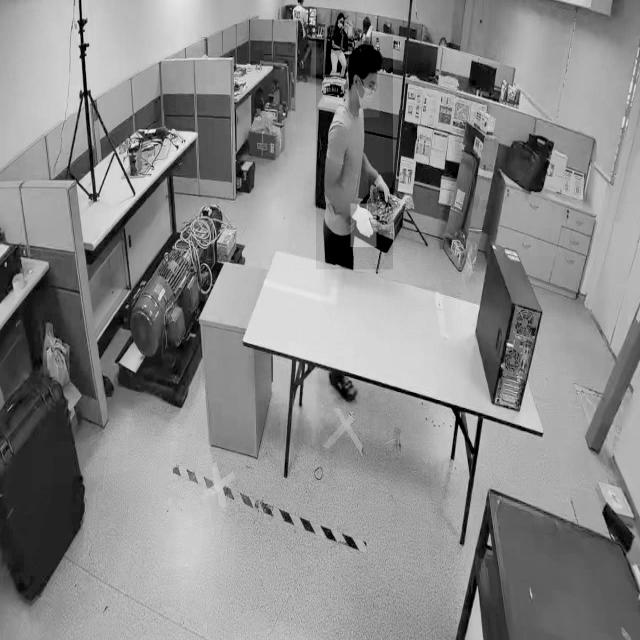face_mask: (352, 70, 379, 118), (336, 12, 346, 34)
hand_glove: (350, 204, 376, 248), (368, 172, 394, 215)
head_nohelmet: (348, 41, 380, 67)
person: (315, 36, 393, 270), (325, 9, 348, 77)
